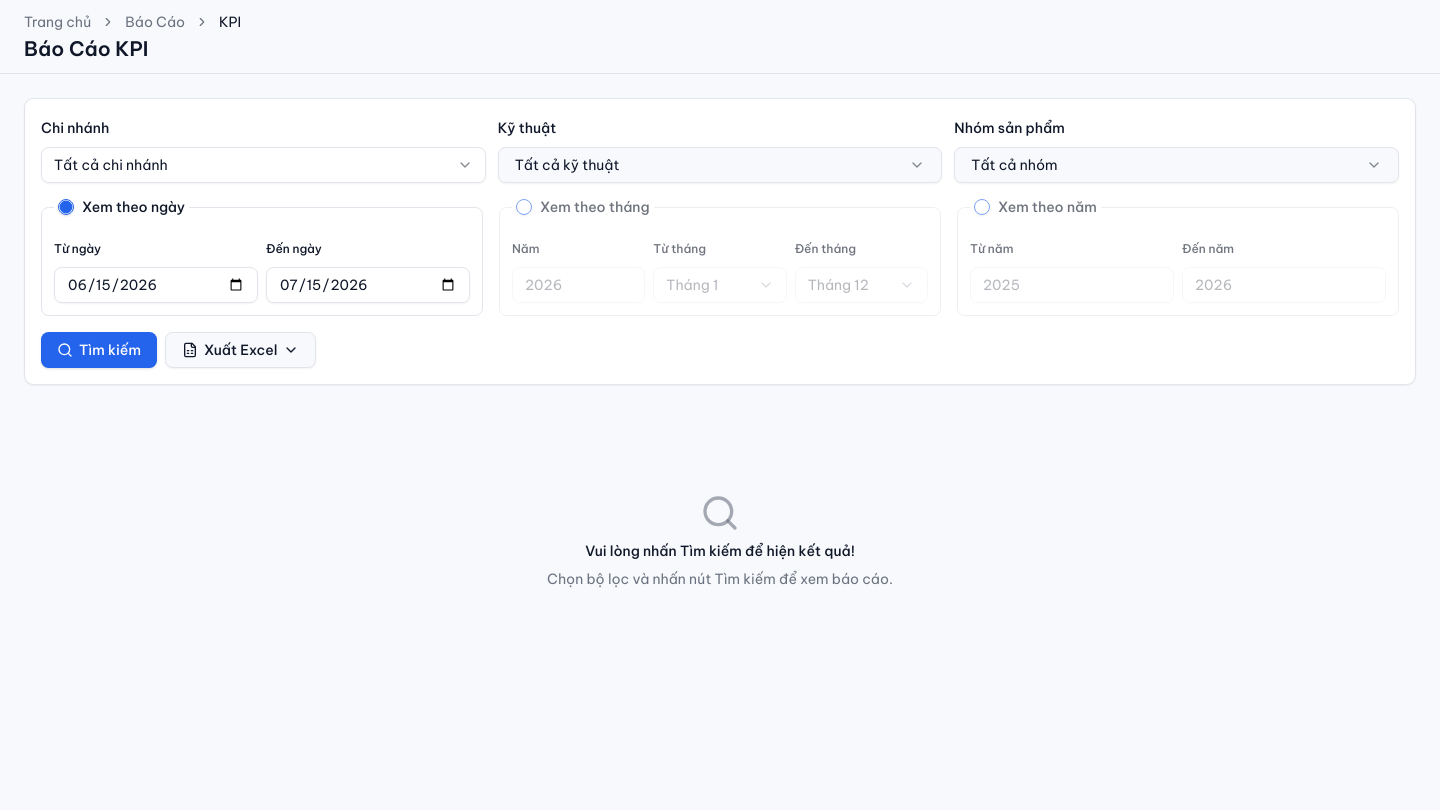
Scenario: KpiReportPage › replaces the redesigned summary with the exact technician aging pivot
Click the button "Tìm kiếm" at coordinates (99, 350), box [41,332,157,368]
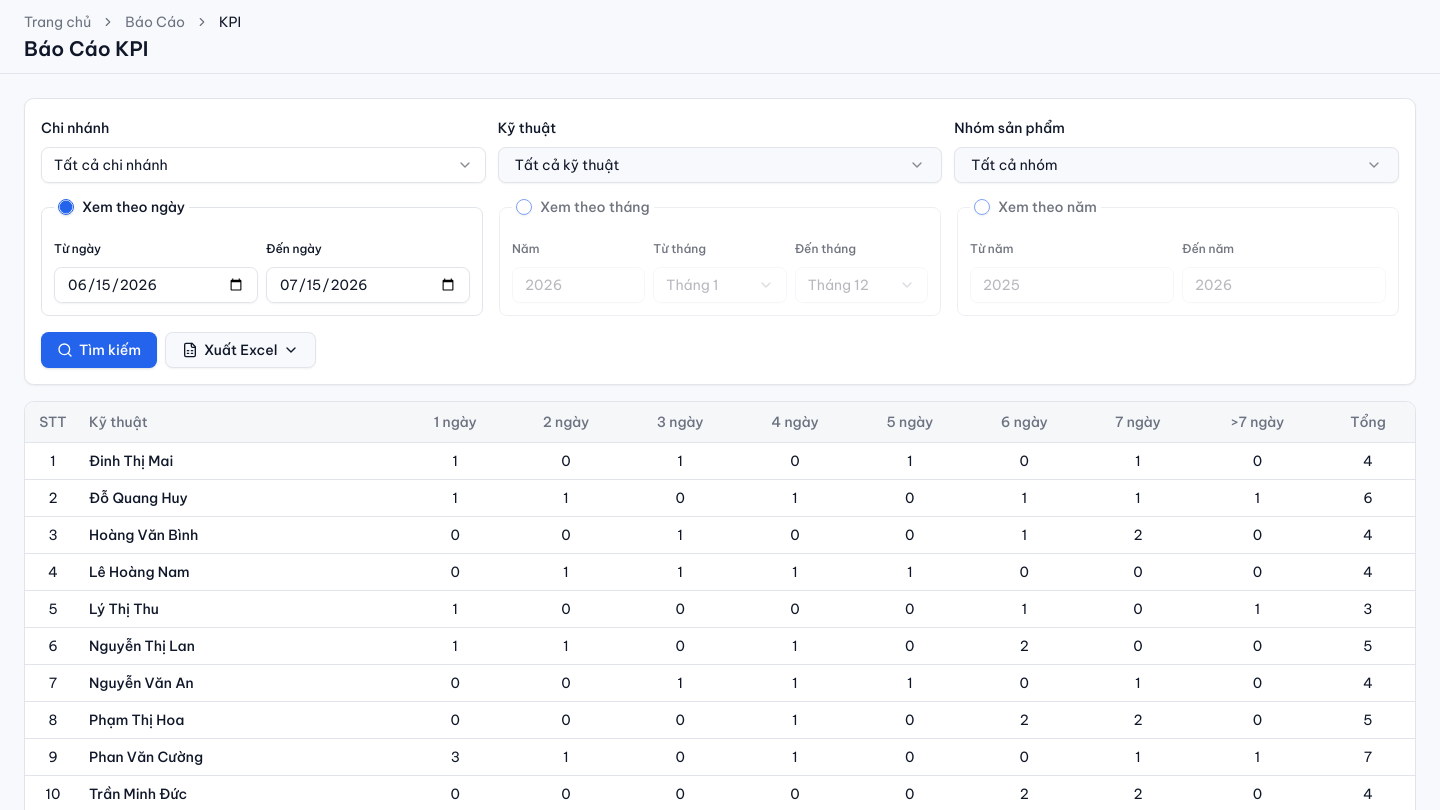
Result: the column heading "Kỹ thuật" is shown at [81,402,402,442]
